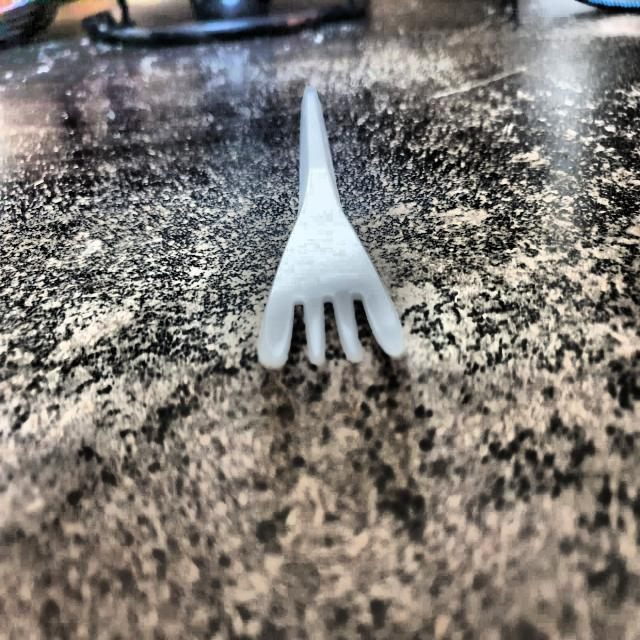plastic utensil: (254, 83, 414, 385)
